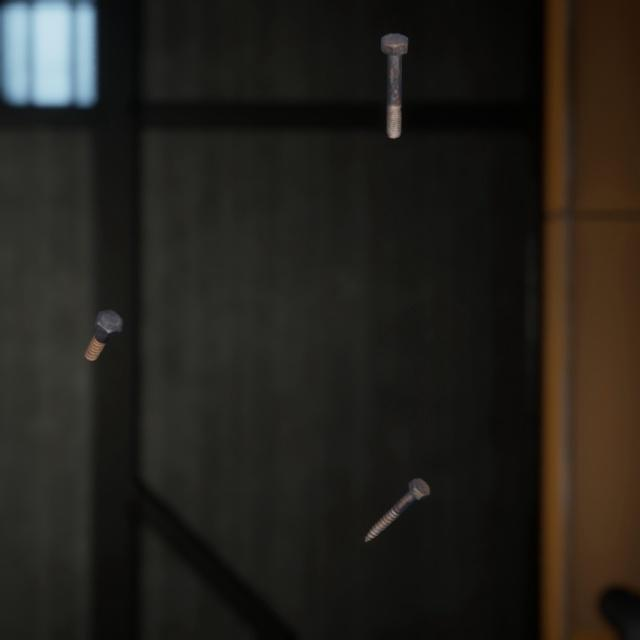bolt: (360, 452, 434, 525), (376, 19, 413, 133), (79, 287, 127, 348)
